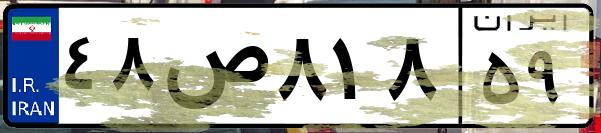1: (330, 28, 385, 110)
4: (57, 26, 110, 100)
5: (475, 38, 525, 113)
8: (270, 28, 330, 110), (385, 28, 445, 110), (110, 28, 158, 98)
9: (525, 38, 570, 115)
ص: (158, 20, 270, 120)
